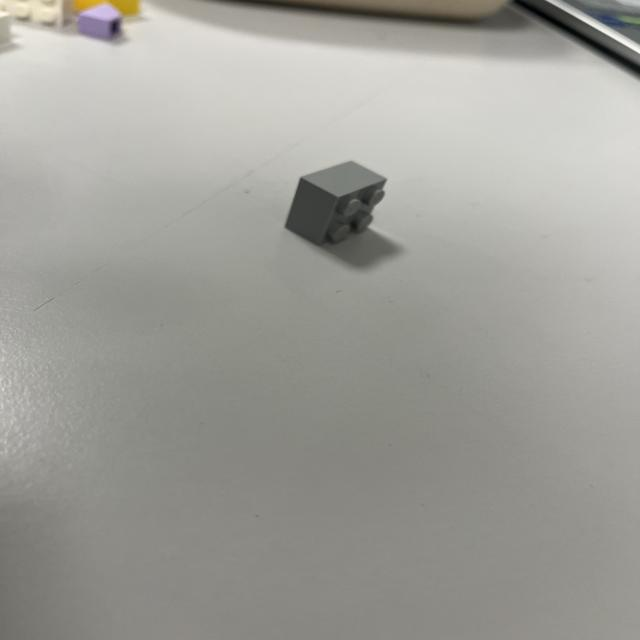C2x2x1: (284, 159, 388, 250)
